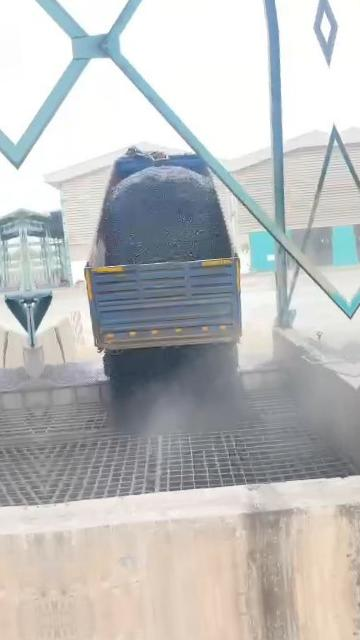gravel: (106, 163, 230, 263), (104, 346, 239, 429), (35, 361, 106, 389)
